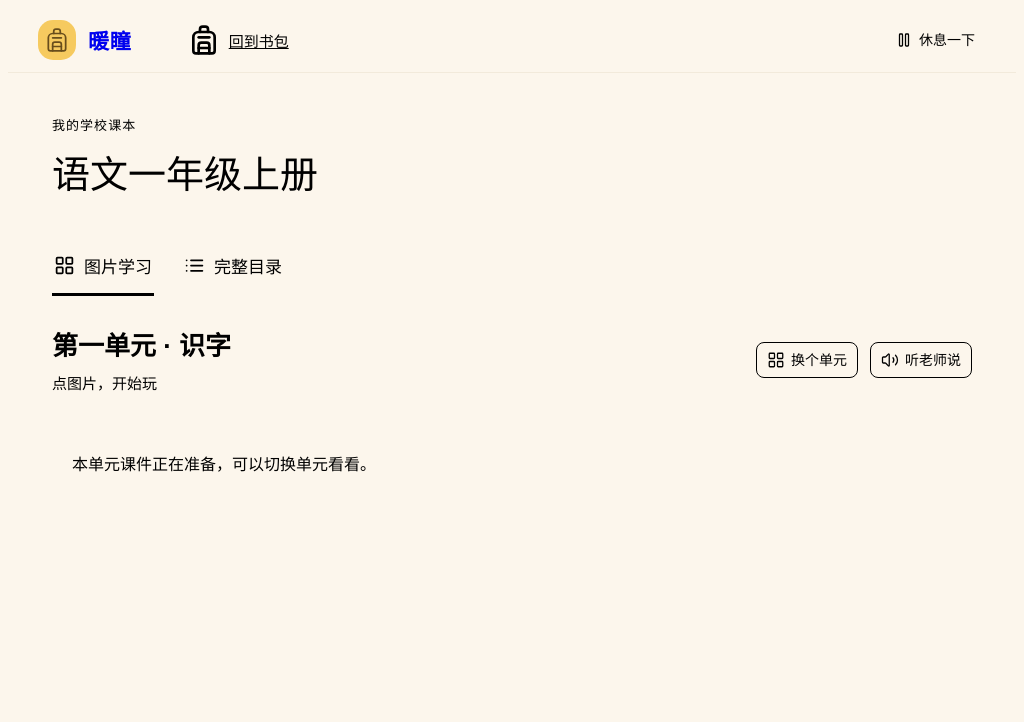
Test: school textbooks › shows verified order/page and partial coverage without creating a course or choosing for parents
Expected: the heading "语文 一年级上册" is shown, [52,154,318,196]
Expected: the element named "走进这门学科" is shown, [52,118,318,196]
Click the button "完整目录" at point(233, 267), box [182,238,284,296]
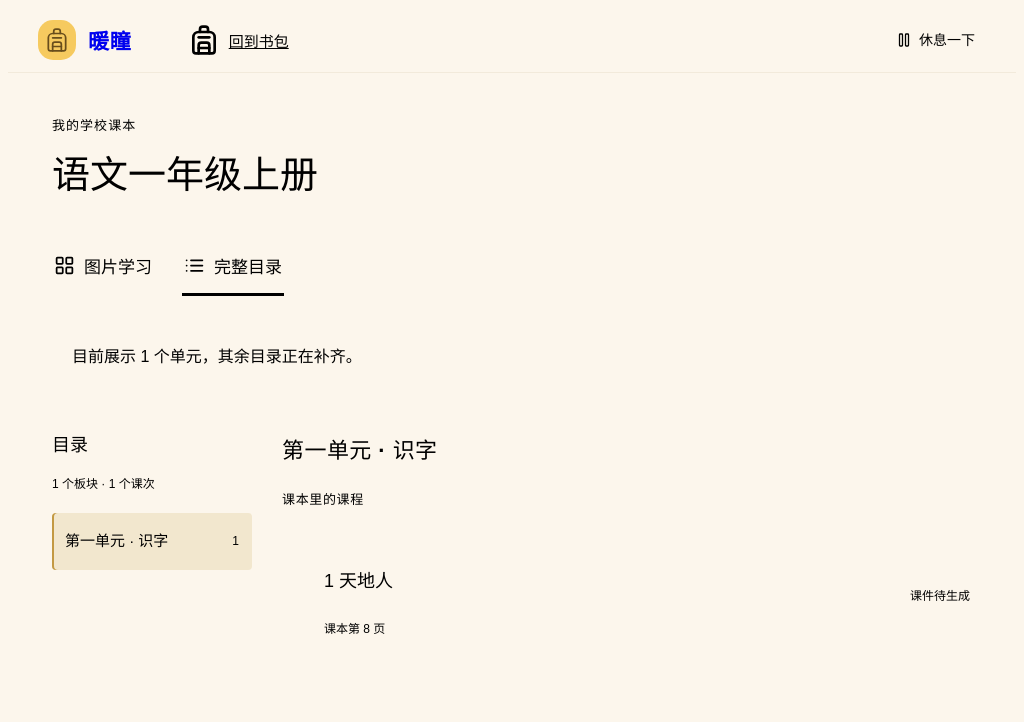
Expected: the element "图片选课" is gone
Expected: the heading "1 天地人" is shown, [324,568,393,595]
Expected: the text "课本第 8 页" is shown, [324,619,393,636]
